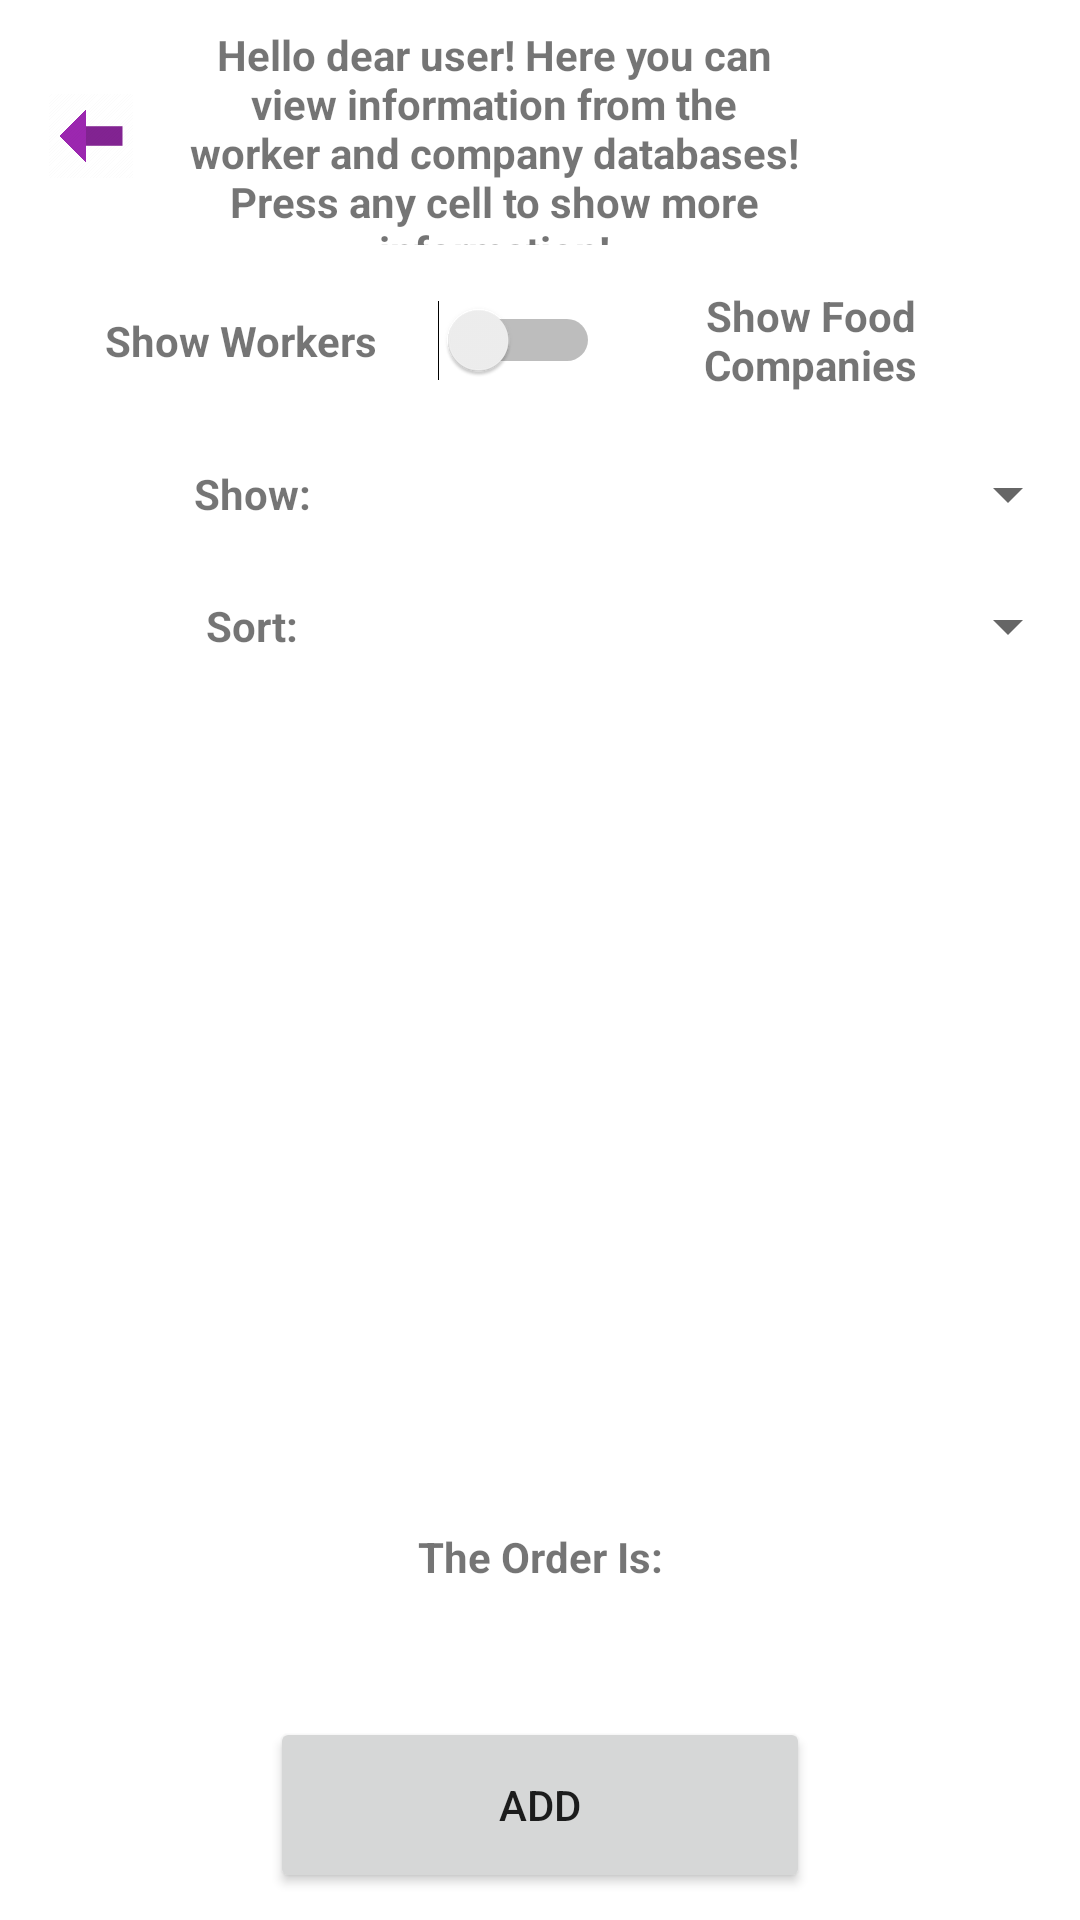

Icon bounding boxes for this 1080px×1920px phone screenshot, format (x1, y1, x2, y2):
back: (60, 110, 123, 162)
